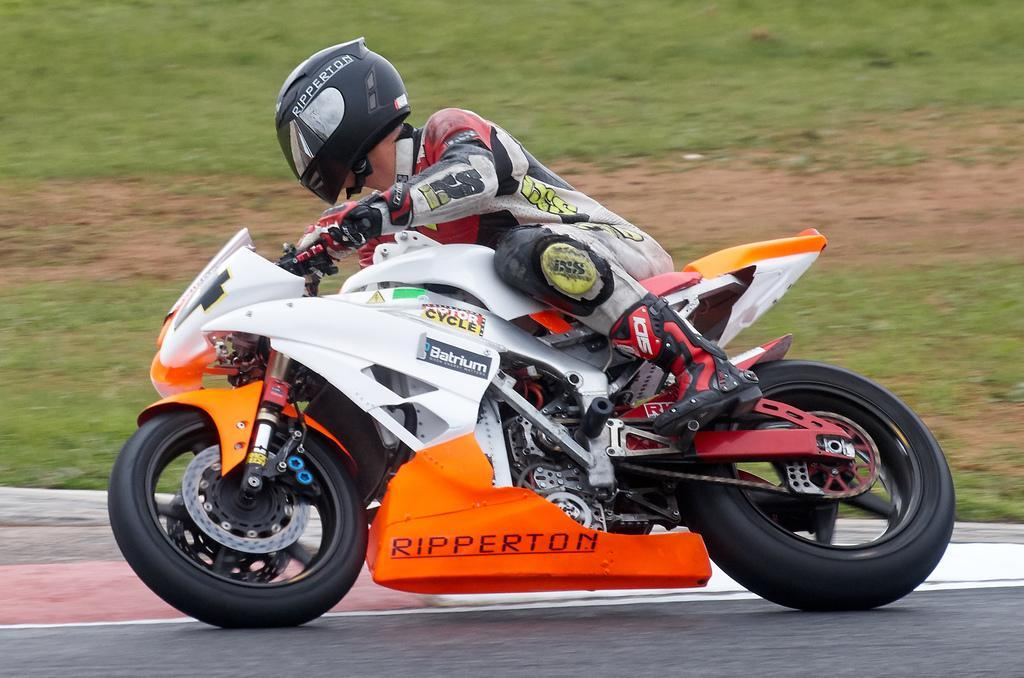helmet: (273, 35, 412, 207)
